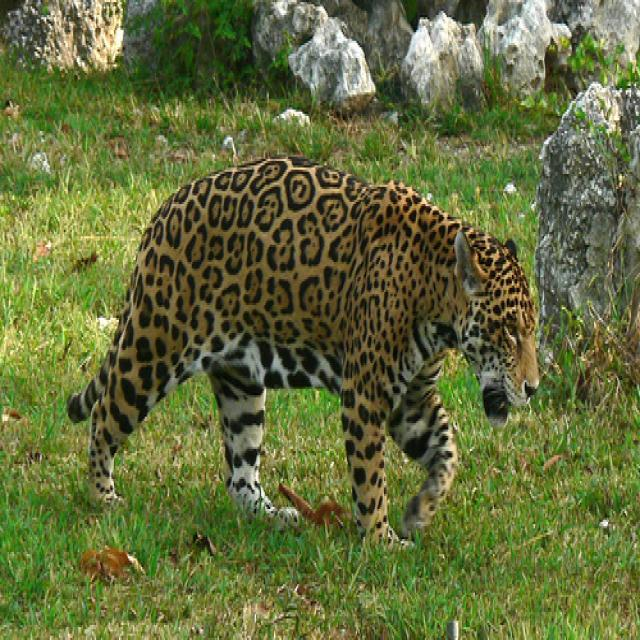Leopard: (64, 152, 538, 565)
